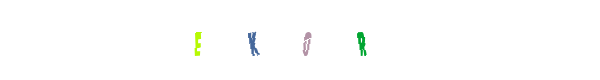0: (260, 0, 340, 80)
E: (157, 0, 237, 80)
K: (242, 0, 322, 80)
R: (321, 0, 401, 80)
